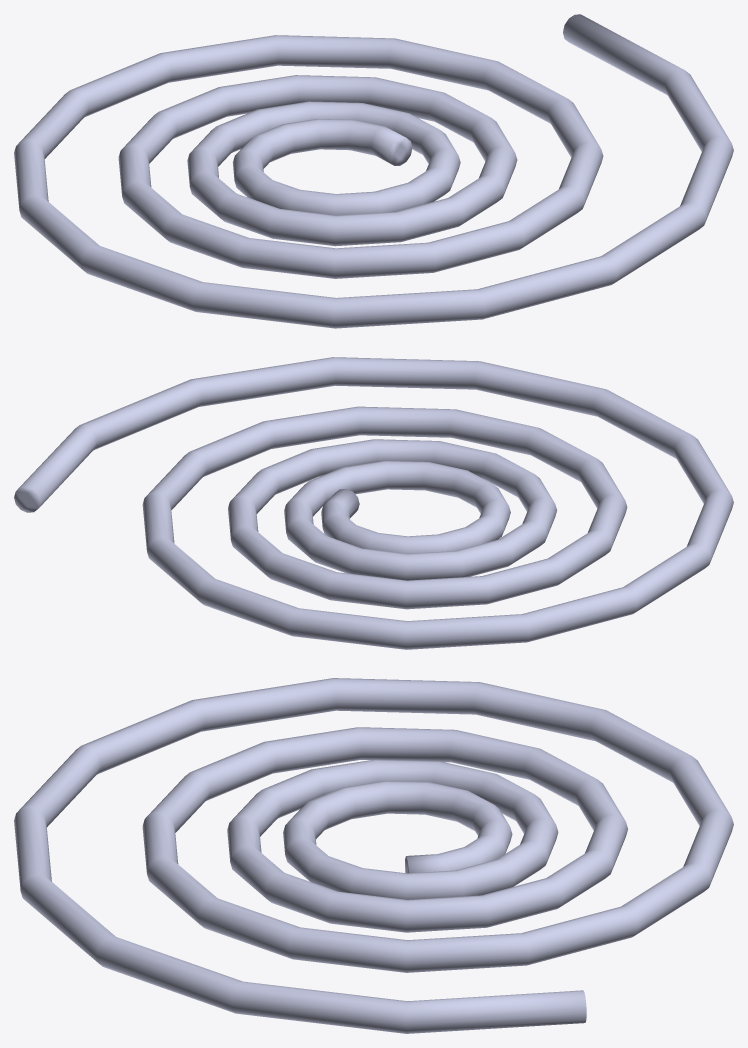
The model's file is Gas.fbx.
3 renders of one model, top to bottom at view 1: azimuth 30°, elevation 25°; view 2: azimuth 150°, elevation 25°; view 3: azimuth 270°, elevation 25°, orthographic. The views are drawn at different scales.
Parts seen in each view (by area): view 1: Spiral; view 2: Spiral; view 3: Spiral.
Boxes of the visible parts, box(x1,y1,x2,y2) form: Spiral: box(14, 14, 733, 328); Spiral: box(14, 357, 733, 649); Spiral: box(14, 678, 733, 1033).
Bounding box in the file's own units: 339 × 14 × 306.
